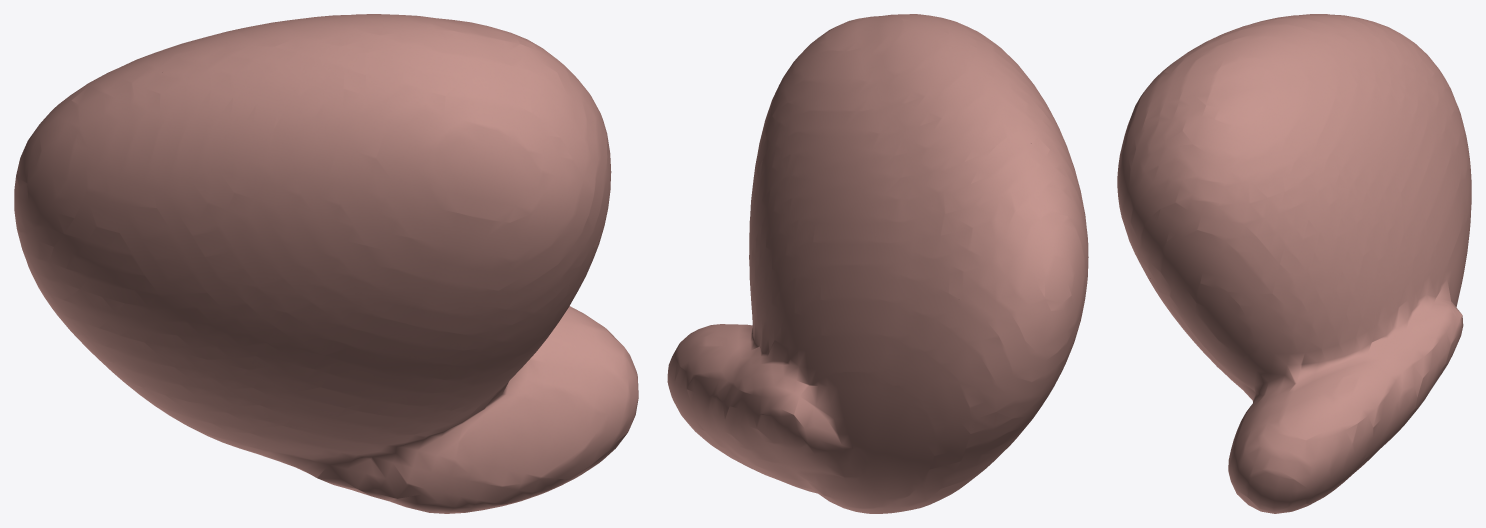
File: kayla-left.gltf
3 renders of one model, left to right at view 1: azimuth 30°, elevation 25°; view 2: azimuth 150°, elevation 25°; view 3: azimuth 270°, elevation 25°, orthographic. The views are drawn at different scales.
Parts seen in each view (by area): view 1: Layer_8; view 2: Layer_8; view 3: Layer_8.
Boxes of the visible parts, bbox=[...] form: Layer_8: bbox=[14, 14, 638, 513]; Layer_8: bbox=[667, 14, 1088, 513]; Layer_8: bbox=[1117, 14, 1471, 513].
Bounding box in the file's own units: 33.02 × 31.08 × 24.68.
Materials: 1 (1 with a texture image).
